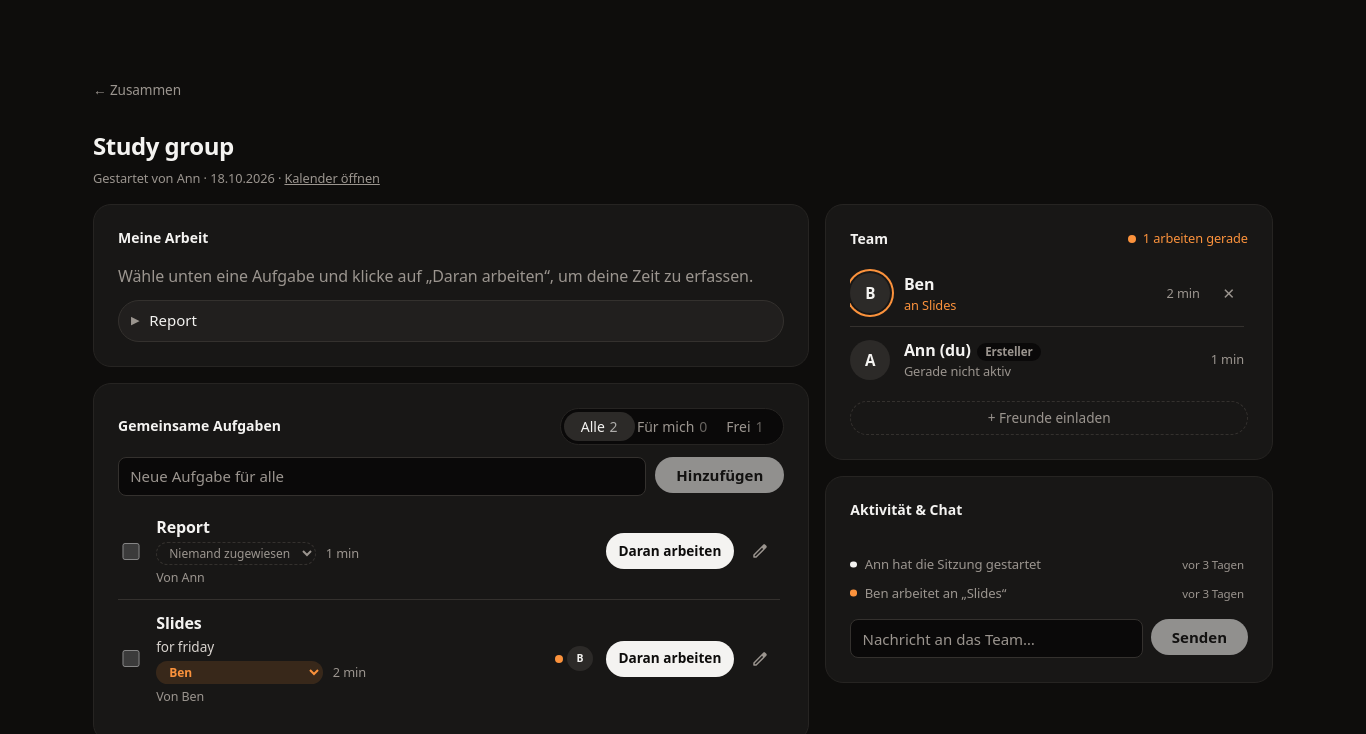
Test case: Shared session page › assigns a task
Select "Ben" in the dropdown named "Zuweisen: Report" at x=236, y=554, box [156,542,316,565]
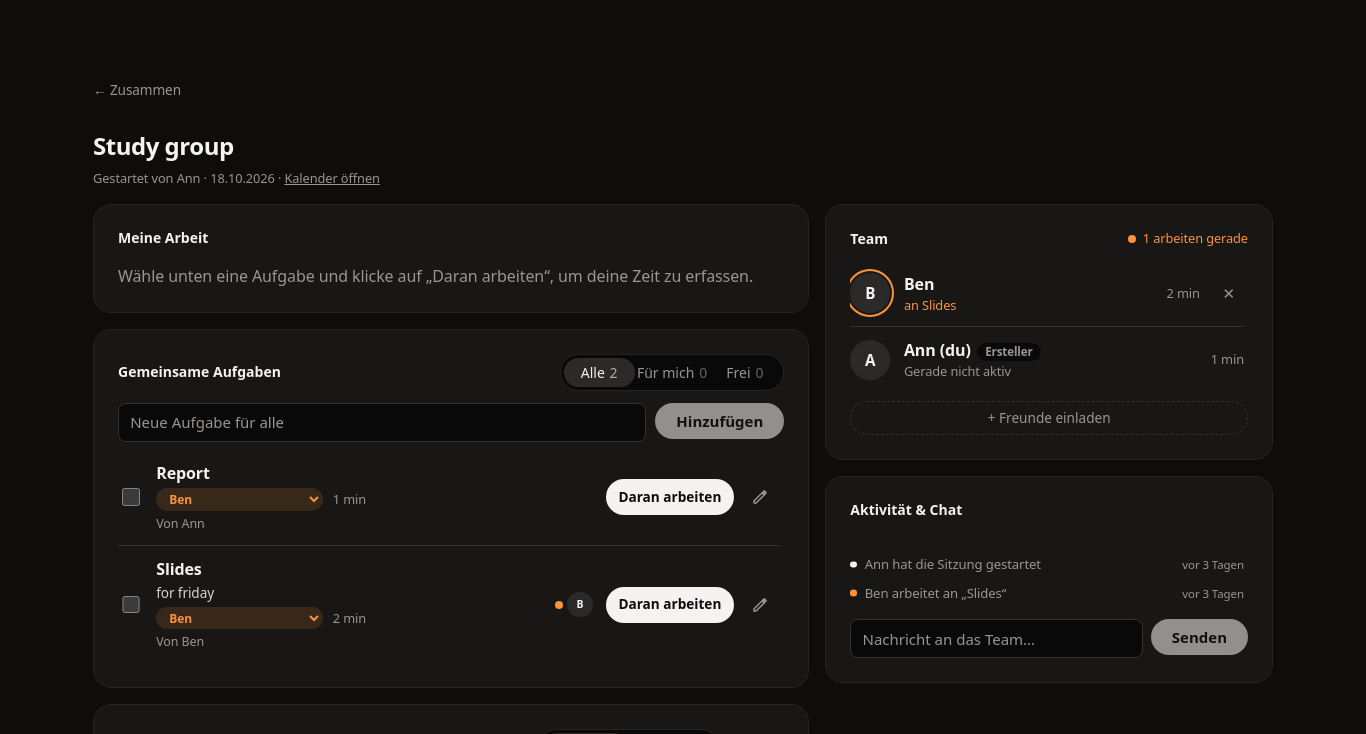
// "assigned to me" filter: ben has both now, ann (me) none
Click the button "Für mich 0" at x=672, y=372, box [637,358,708,387]
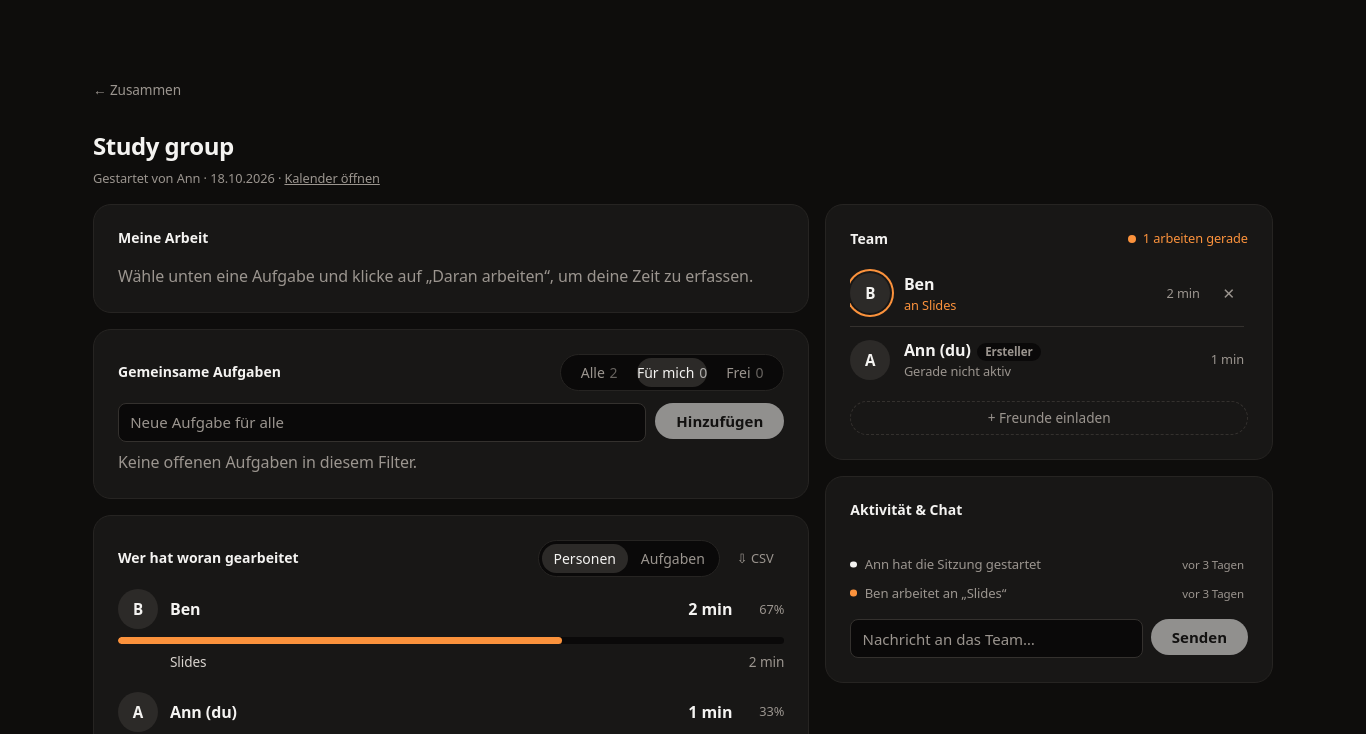
Check: the text "Keine offenen Aufgaben in diesem Filter." is shown, box [118,451,417,473]
